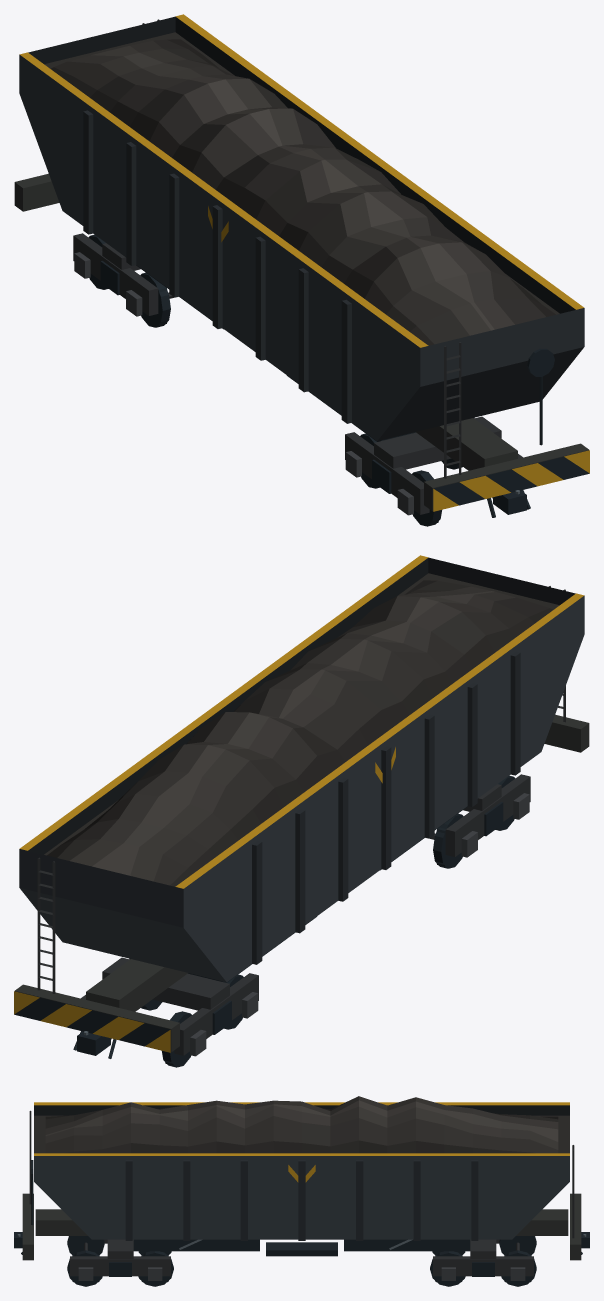
File: ore-hopper.glb
3 views of the same model, one above another, from view 1: azimuth 30°, elevation 25°; view 2: azimuth 150°, elevation 25°; view 3: azimuth 270°, elevation 25° (orthographic). The views are drawn at different scales.
Parts seen in each view (by area): view 1: ore-hopper (×2); view 2: ore-hopper (×2); view 3: ore-hopper (×2).
Boxes of the visible parts, x1,y1,x2,y2 form: ore-hopper (×2): (14, 14, 589, 526); ore-hopper (×2): (14, 555, 589, 1067); ore-hopper (×2): (14, 1096, 589, 1286).
Bounding box in the file's own units: 9.3 × 12.97 × 40.
